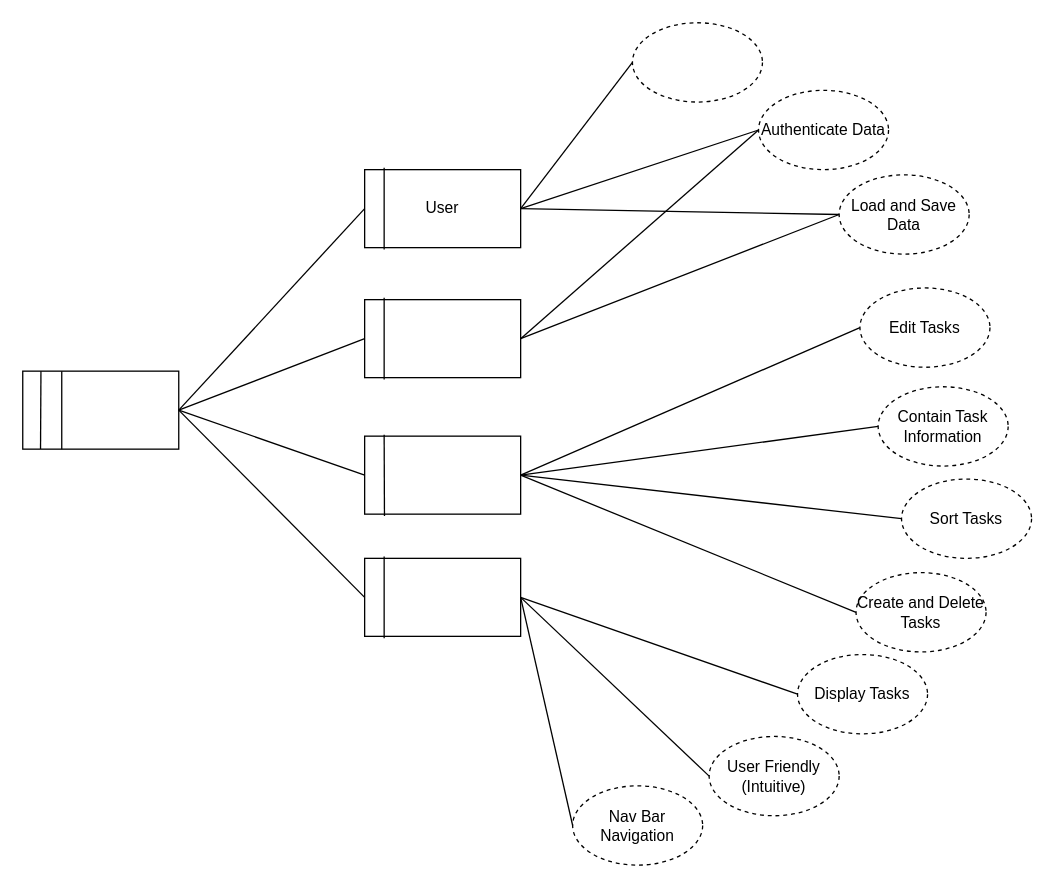
This 1054x888 diagram has some shape labels left out. The box of each missing label's shape, as (x1, y1, x2, y2) in pixels:
Data Storage: (363, 298, 521, 378)
Log In and Out: (631, 21, 762, 102)
Not Notion: (21, 370, 179, 449)
Task Management: (363, 435, 521, 514)
UI: (363, 557, 521, 636)
